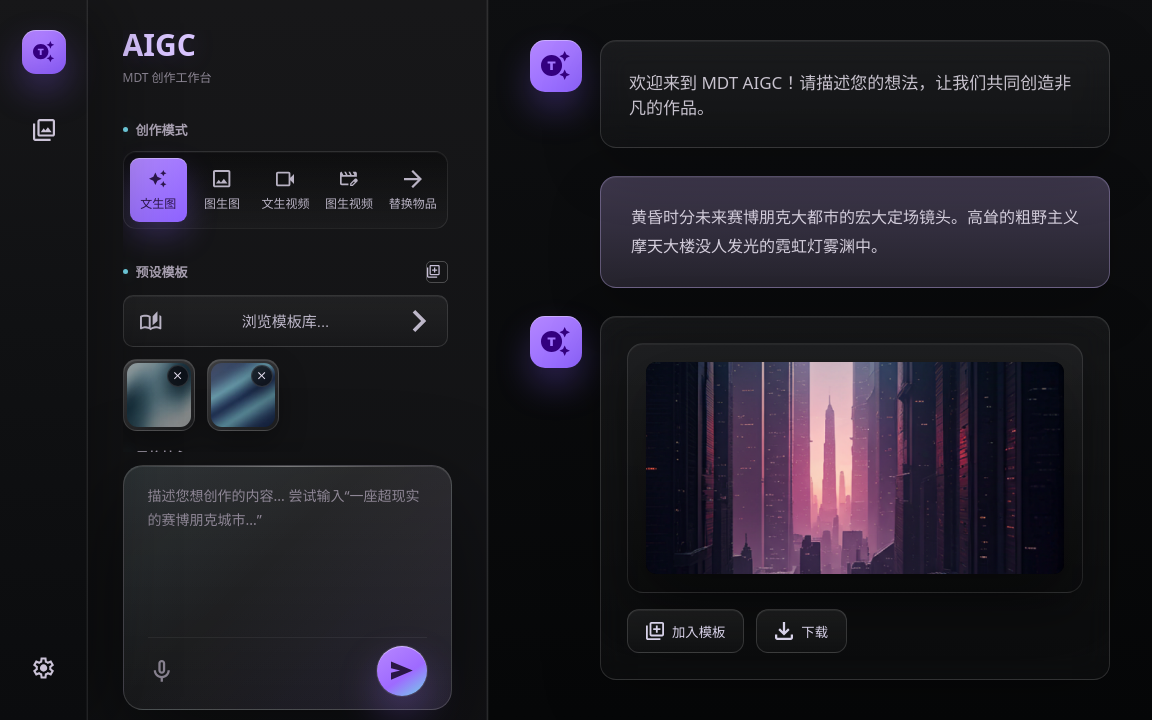
it: ImageGen controls › saves custom ComfyUI image and video addresses from settings
Click the button with test id "settings-button" at (44, 668), box [22,646,66,690]
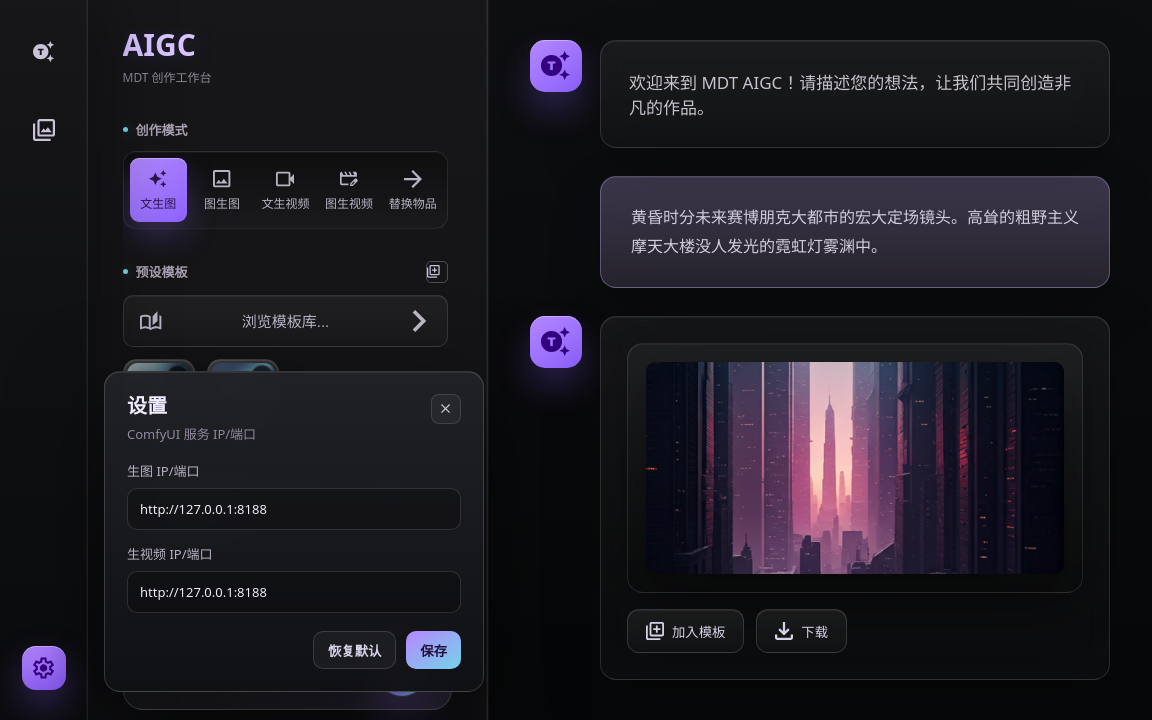
Expected: the element with test id "settings-popover" shows "ComfyUI 服务 IP/端口", [127,425,256,443]
Expected: the number of fields is 2
Expected: the field labelled "生图 IP/端口" holds "http://127.0.0.1:8188"
Replace the text in the field labelled "生图 IP/端口" with " http://192.168.0.10:8188/// " at (294, 509), box [127,488,461,530]
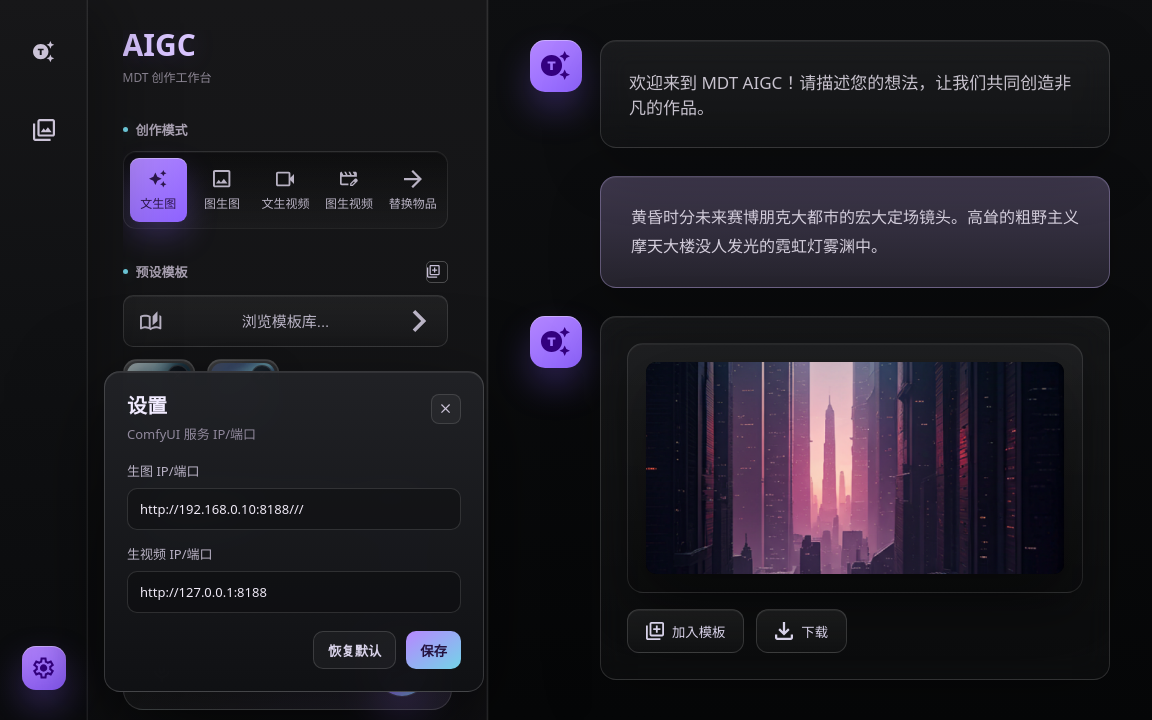
Replace the text in the field labelled "生视频 IP/端口" with " http://127.0.0.1:8189/ " at (294, 592), box [127,571,461,613]
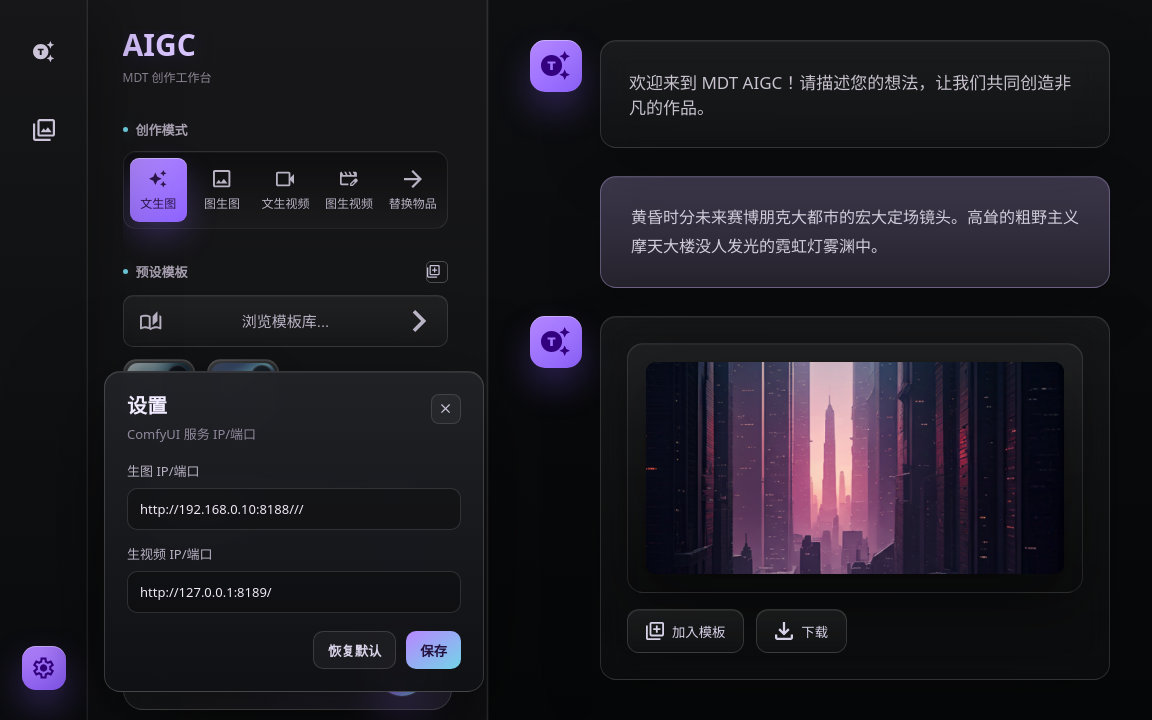
Click the button with class "settings-primary" at (434, 650), box [406,631,461,669]
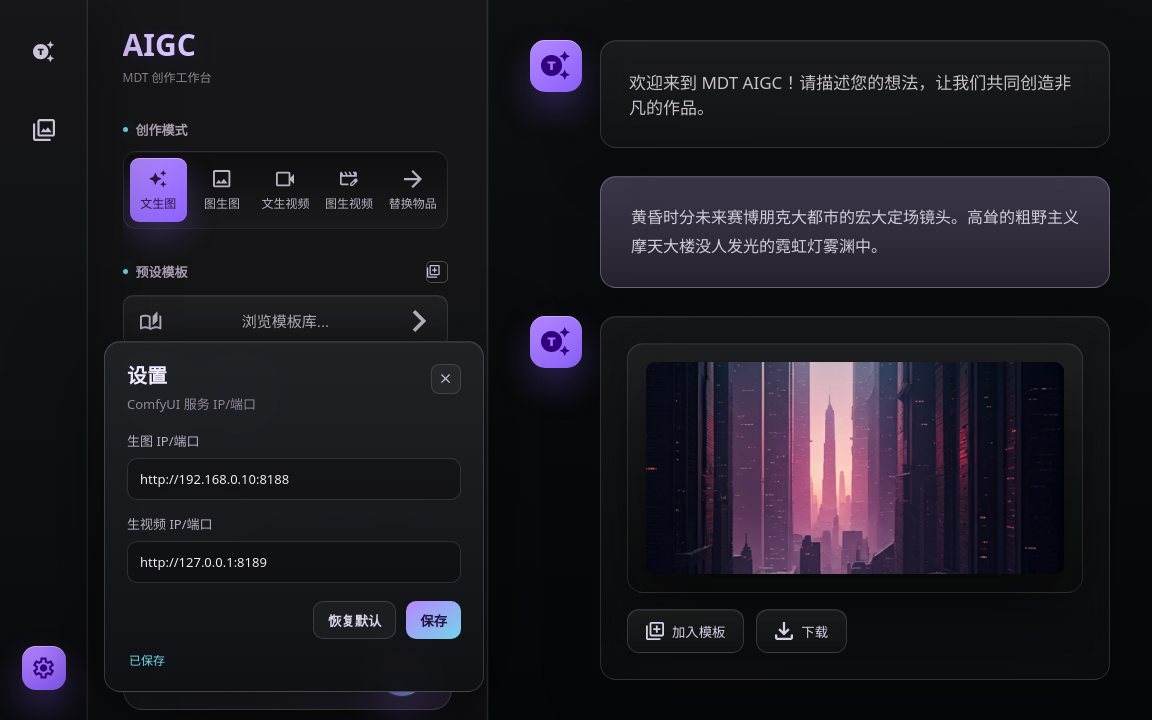
Expected: the text with class "settings-status" reads "已保存", [129,652,165,669]
Expected: the field labelled "生图 IP/端口" holds "http://192.168.0.10:8188", [127,458,461,500]
Expected: the field labelled "生视频 IP/端口" holds "http://127.0.0.1:8189", [127,541,461,583]
